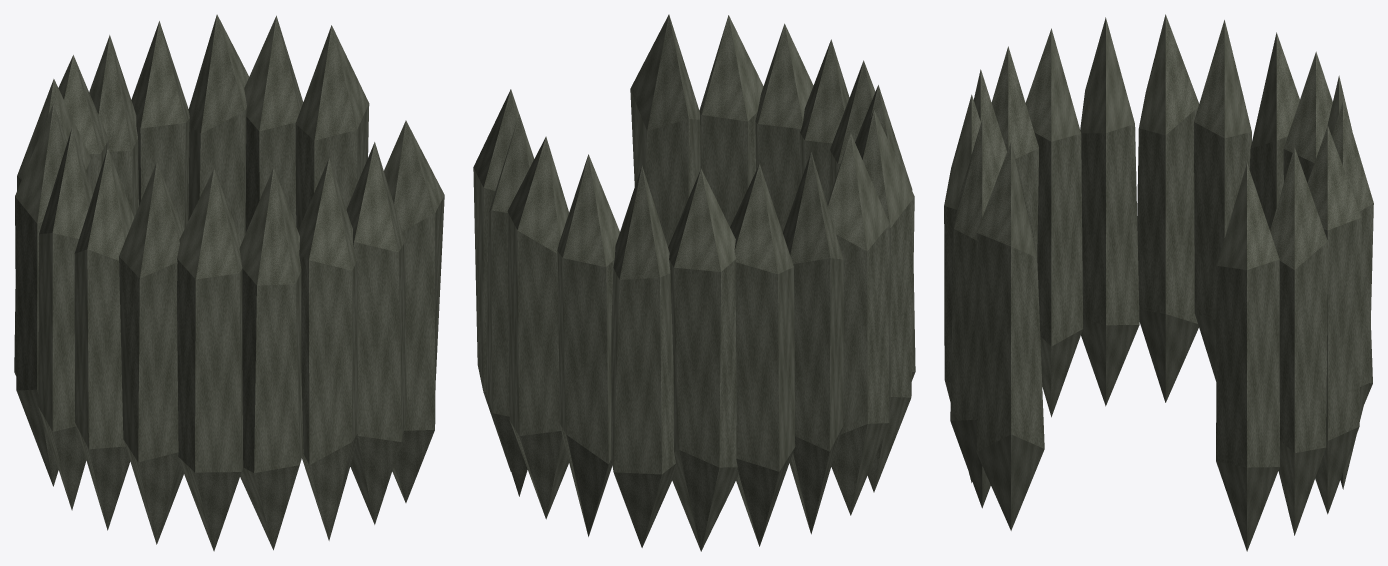
The model's file is stone_enclosure_01.fbx.
3 renders of one model, left to right at view 1: azimuth 30°, elevation 25°; view 2: azimuth 150°, elevation 25°; view 3: azimuth 270°, elevation 25°, orthographic.
Visible parts, largest first — view 1: stone_enclosure_01_LOD0; view 2: stone_enclosure_01_LOD0; view 3: stone_enclosure_01_LOD0.
Boxes of the visible parts, x1=… form: stone_enclosure_01_LOD0: x1=14, y1=14, x2=444, y2=551; stone_enclosure_01_LOD0: x1=473, y1=14, x2=915, y2=551; stone_enclosure_01_LOD0: x1=944, y1=14, x2=1373, y2=551.
Size of what is drawn, in the model's own units: 1 by 1 by 1.
